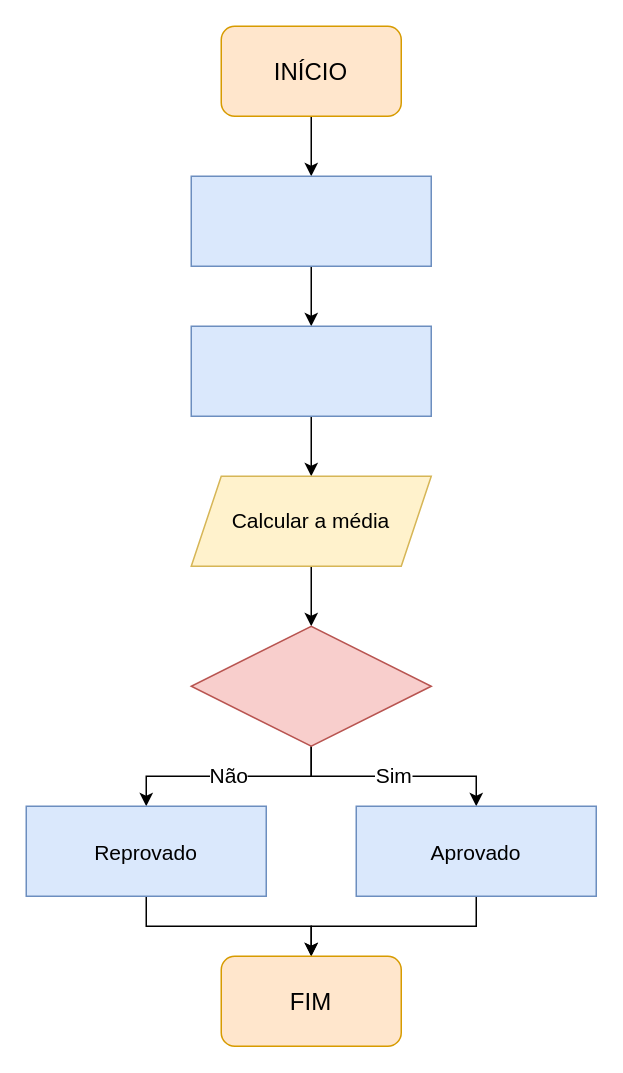
Some shapes in this 623 by 1073 pixel diagram are drawn without their labels. Here are the shapes that lost their labels. From the top down, the box of each, then its label:
(190, 175, 431, 266): Usuário digita nota 1
(190, 325, 431, 416): Usuário digita nota 2
(190, 625, 431, 746): Média > 6?
